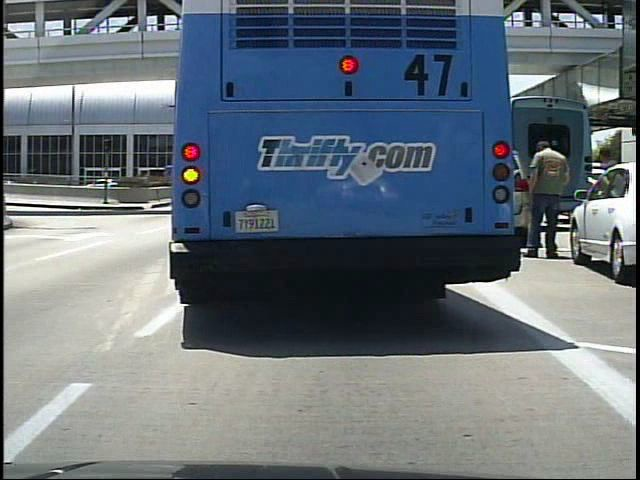person: (527, 136, 572, 263), (596, 147, 624, 246)
